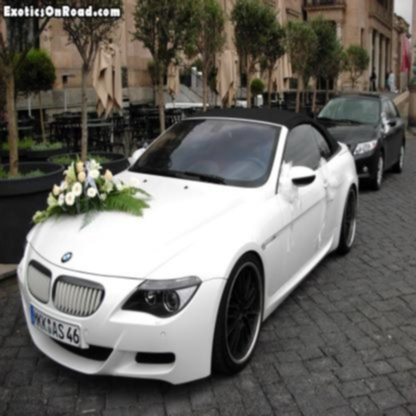Vehicle: (11, 80, 375, 403)
